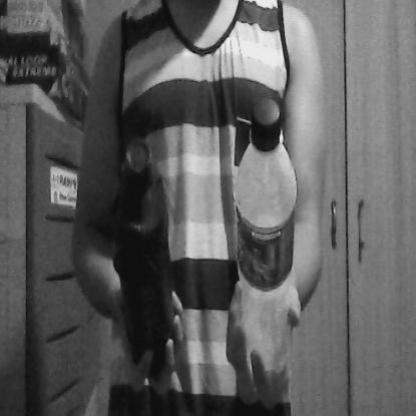Plastic Bottle: (228, 78, 306, 393)
